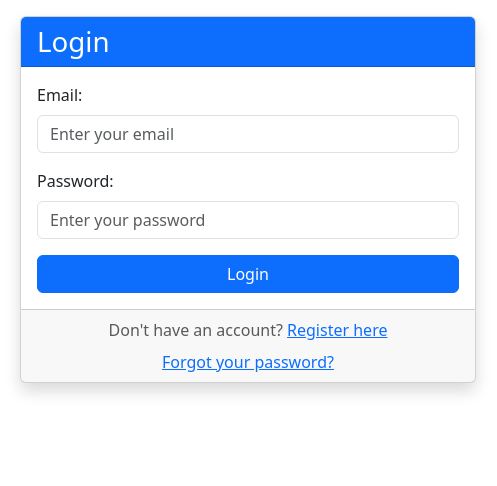
Test: <Login /> (customer) › shows an error alert when login rejects and does not navigate
This screenshot has width=497, height=486.
Type "oops@example.com" into the field labelled "Email:".
click(248, 134); type("oops@example.com")  # box [37,115,459,153]
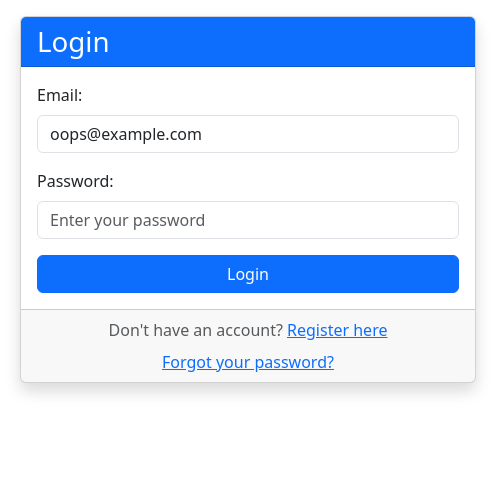
Type "wrong" into the password field labelled "Password:".
click(248, 220); type("wrong")  # box [37,201,459,239]
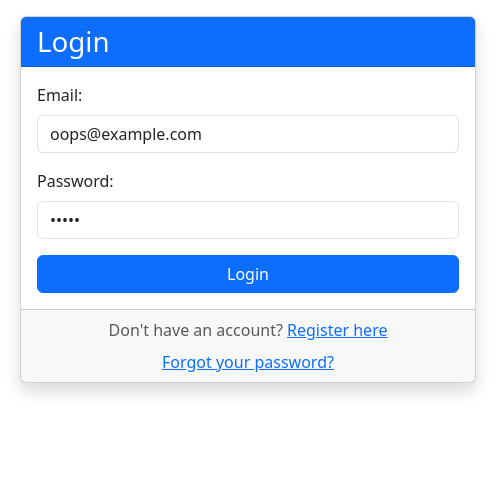
Click the button "Login".
click(248, 274)  # box [37,255,459,293]
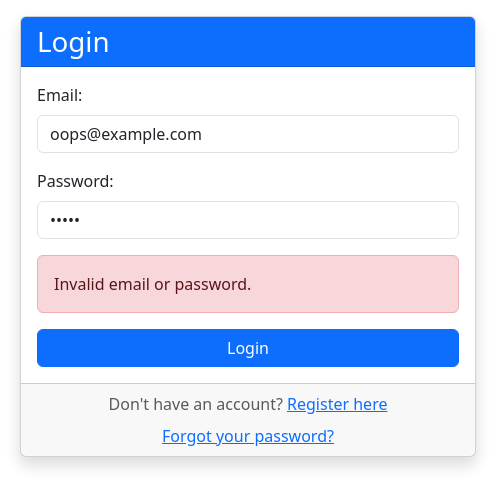
Result: the message reads "Invalid email or password." at [54,273,251,295]
